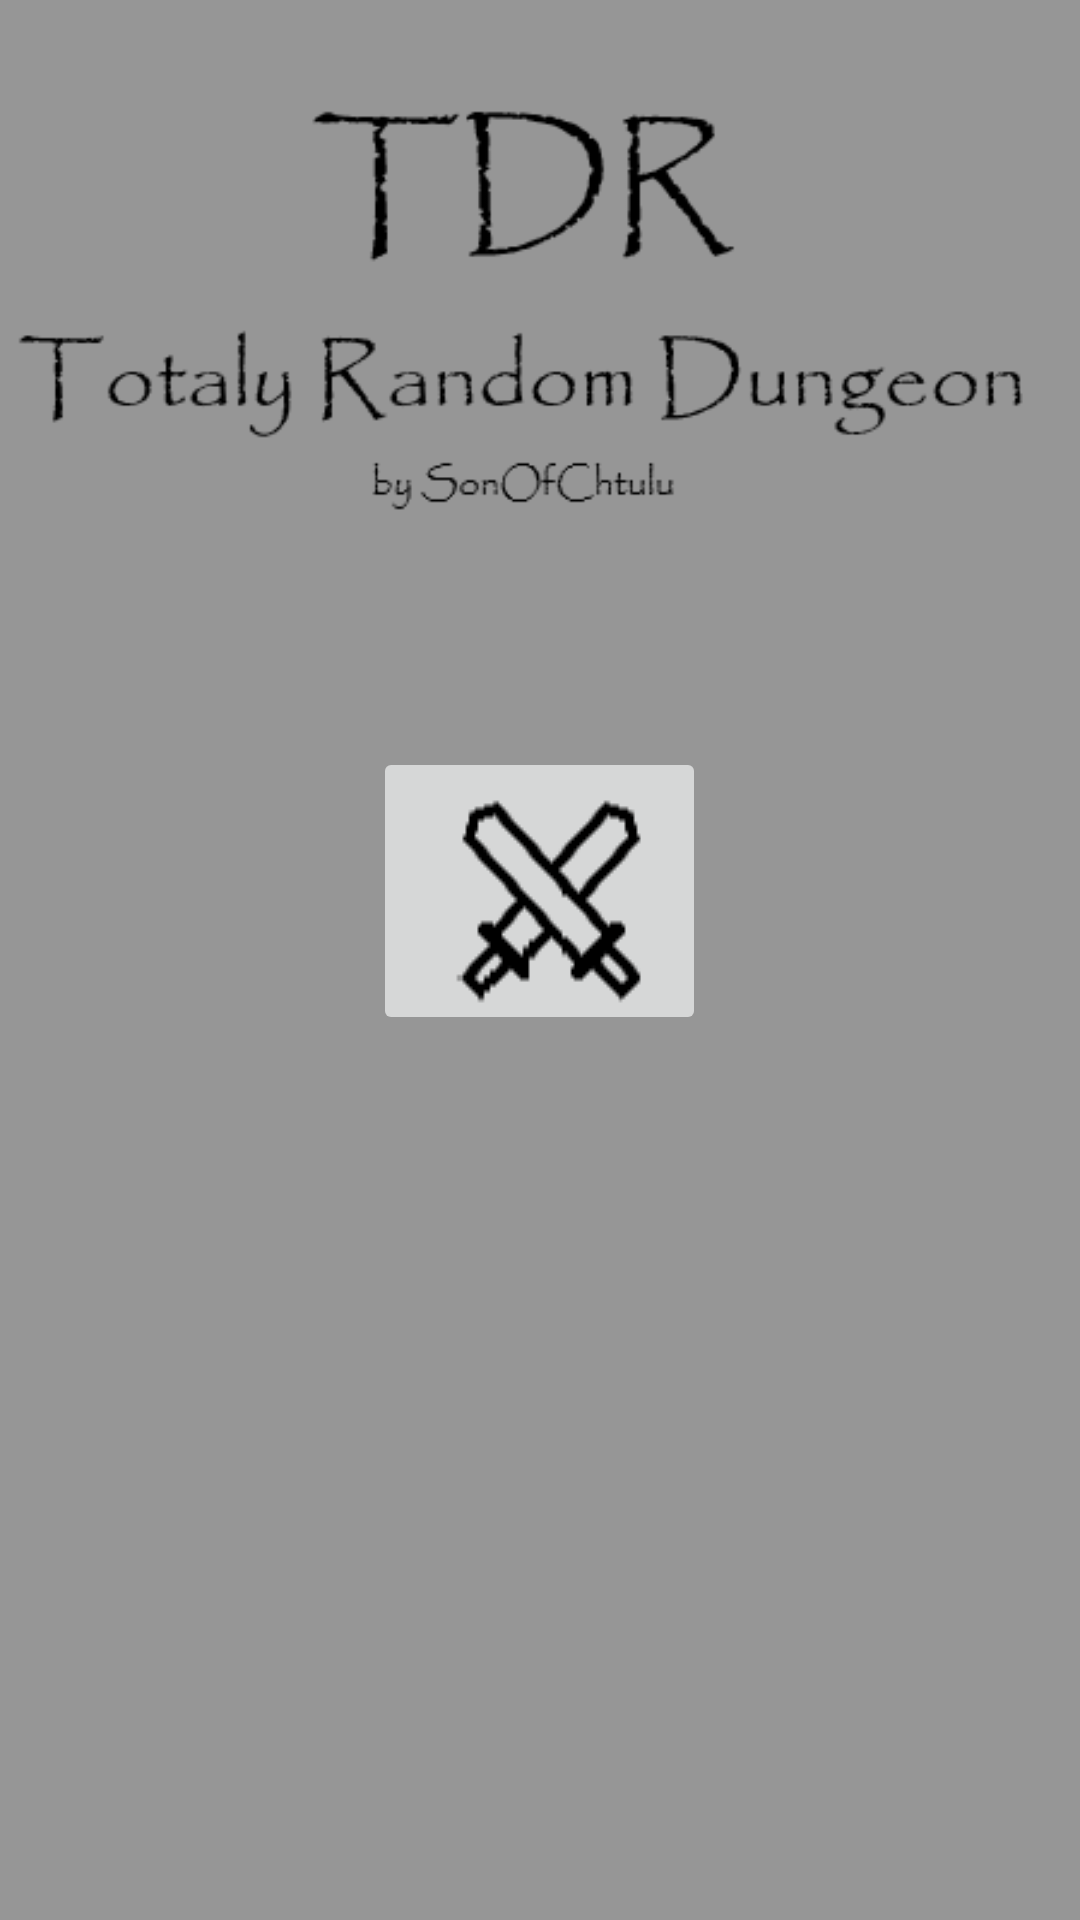

Icons on this 1080×1920 Android screen, each with its box as (x1, y1, x2, y2):
swords: (385, 765, 694, 1017)
